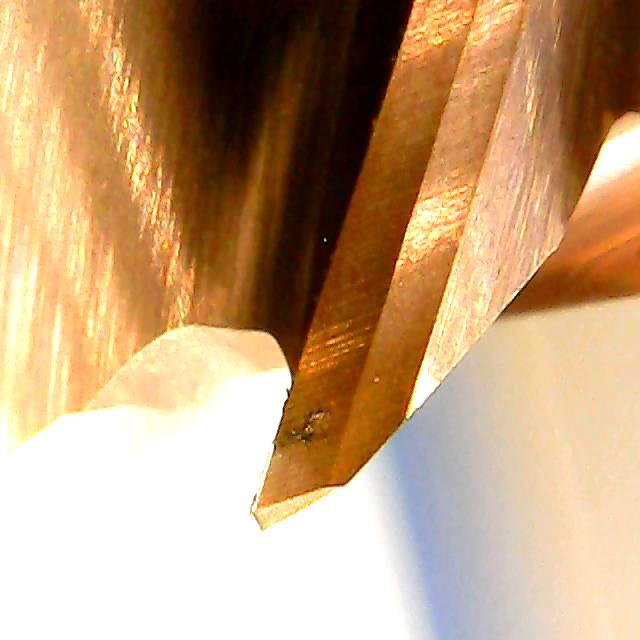Tool-wear-class-1: (227, 270, 429, 540)
